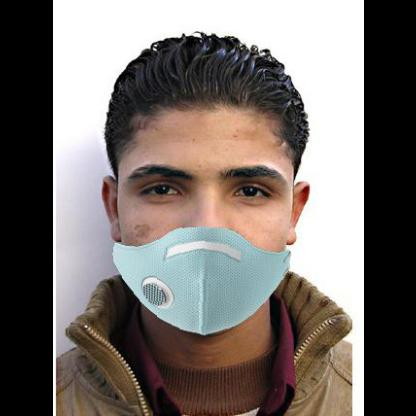FFP Mask: (104, 79, 302, 337)
